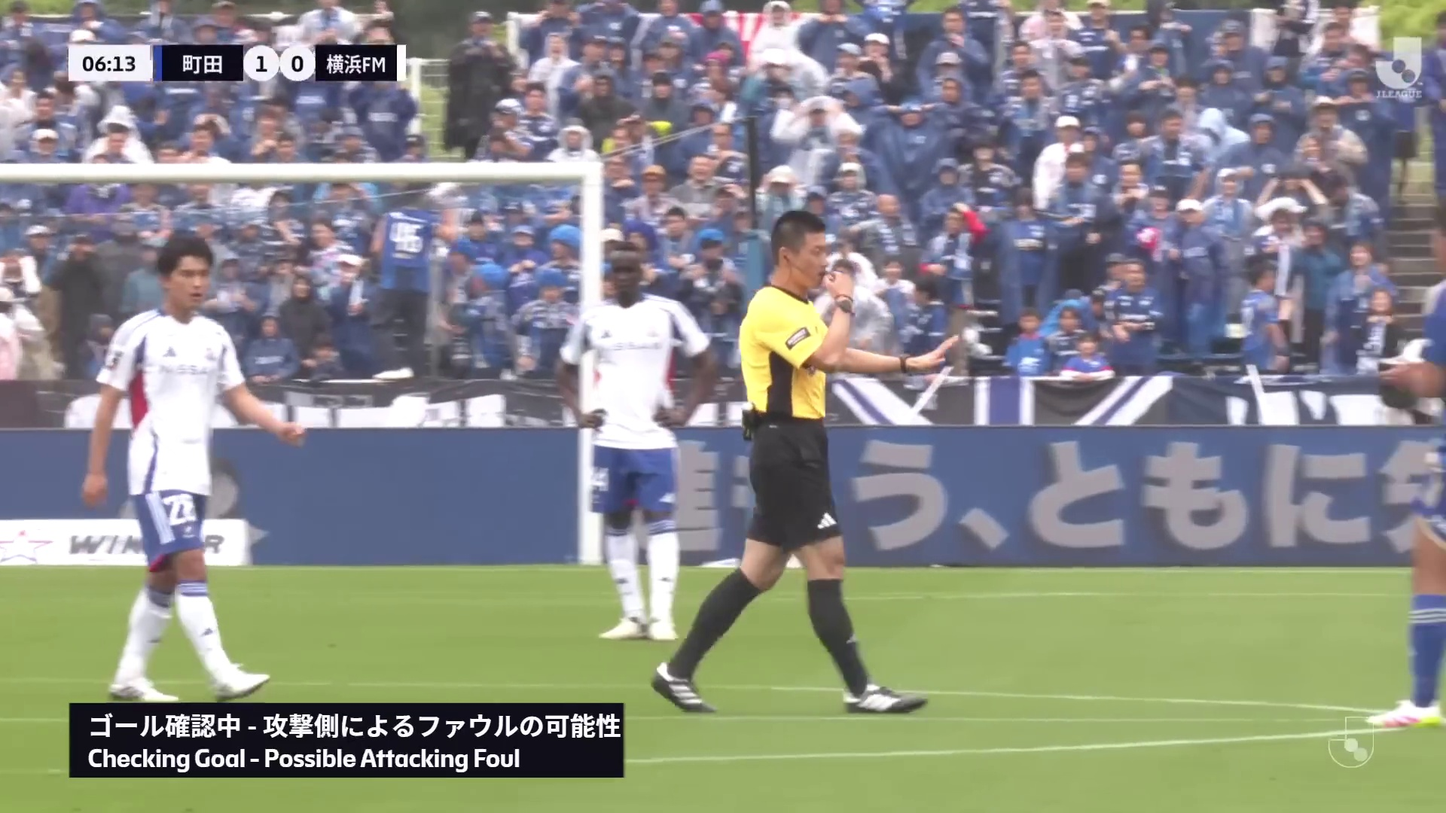player: (74, 222, 306, 702), (557, 243, 715, 649), (1362, 206, 1446, 734)
referee: (640, 208, 963, 709)
